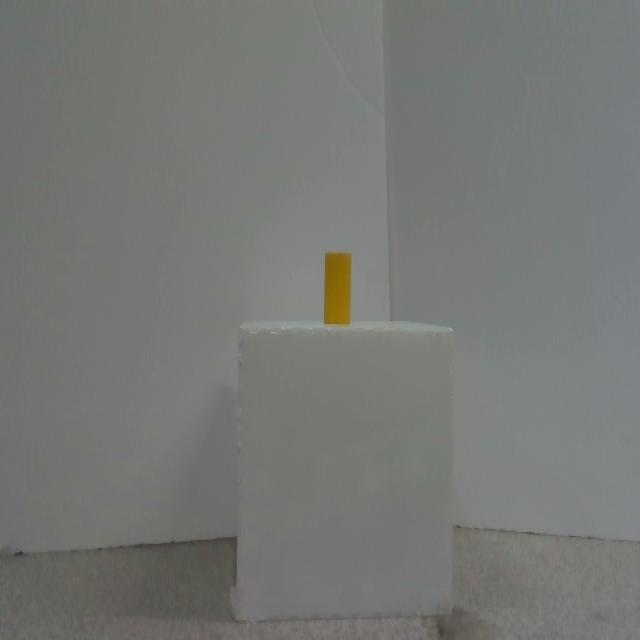yellow_cylinder: (324, 252, 351, 324)
